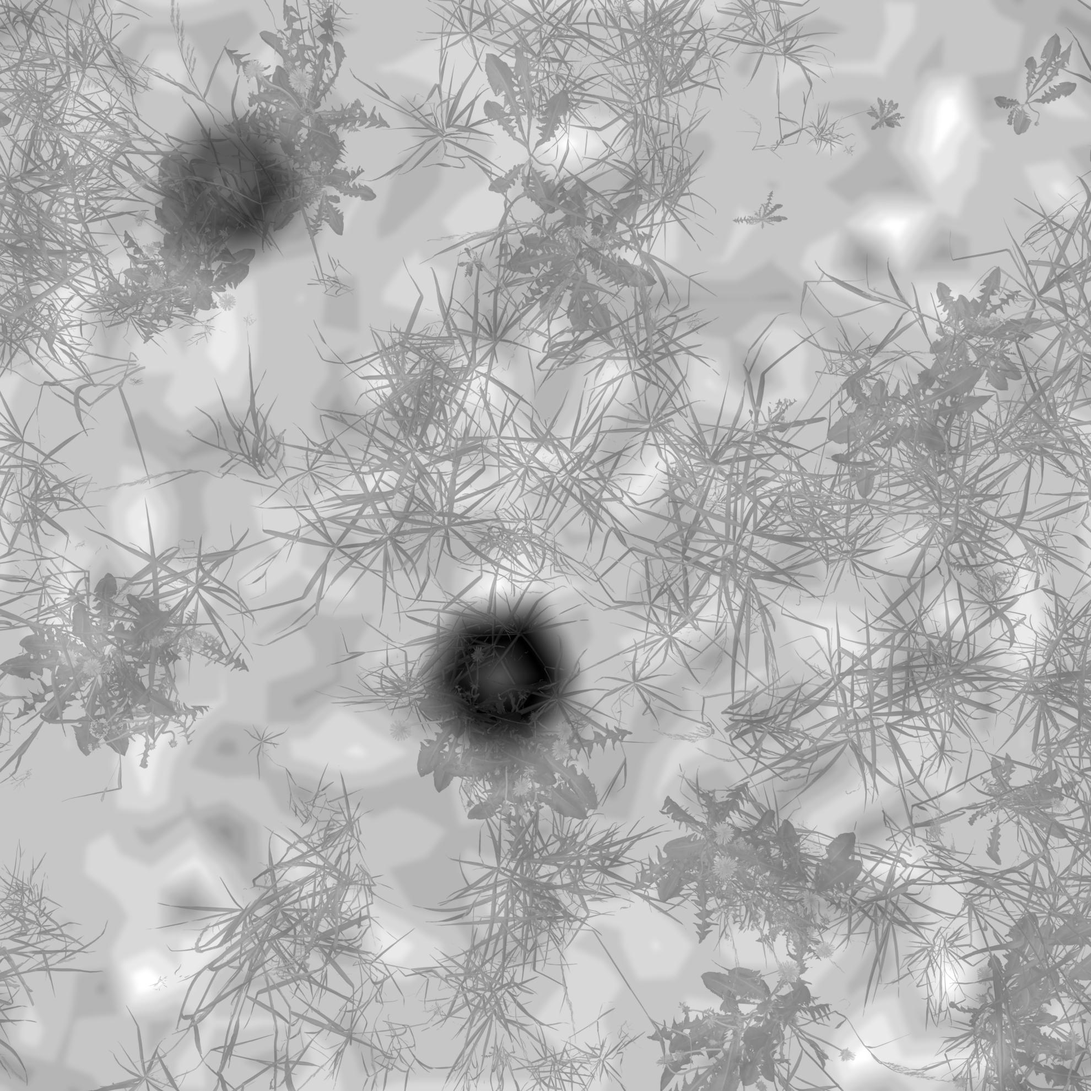landmine: (433, 600, 580, 758), (168, 120, 300, 245)
